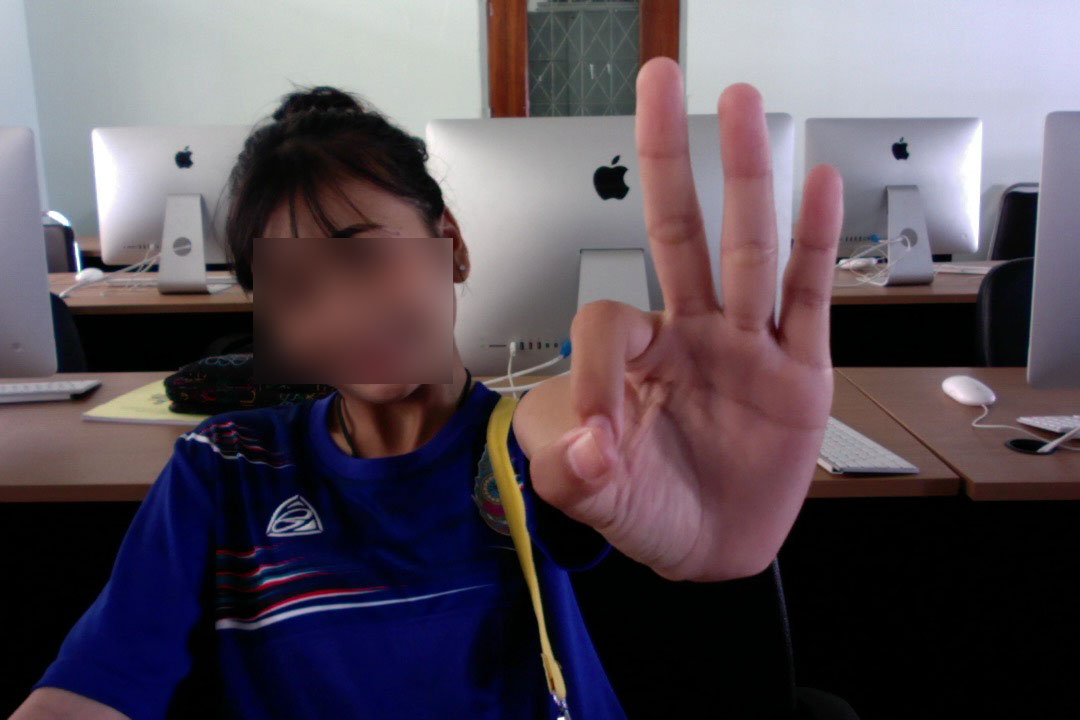for: (474, 47, 903, 621)
